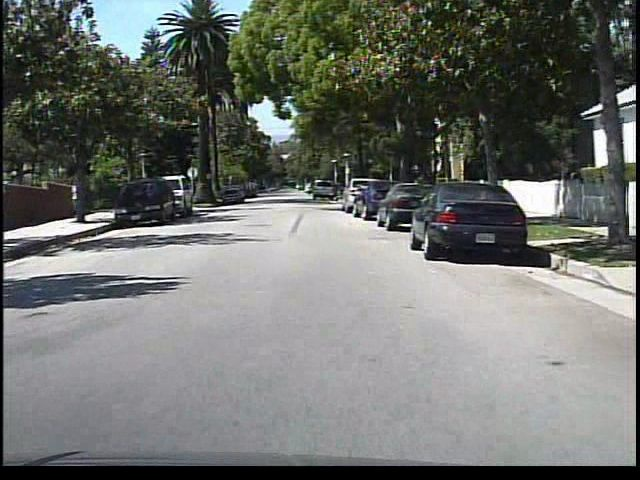person: (68, 179, 85, 218)
